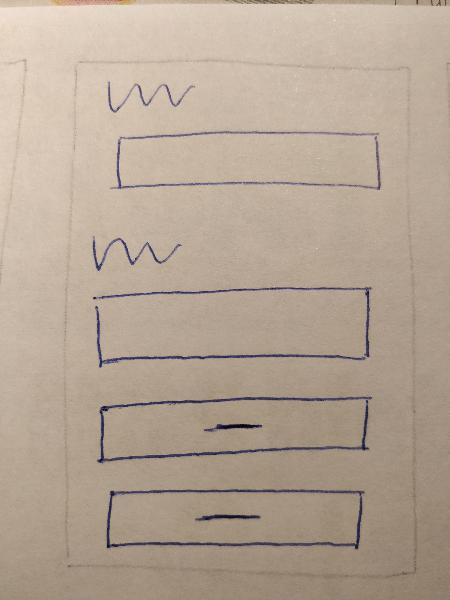button: (87, 391, 379, 463), (100, 481, 375, 557)
text: (84, 226, 185, 276), (96, 72, 202, 119)
text_input: (81, 280, 383, 376), (104, 122, 388, 202)
